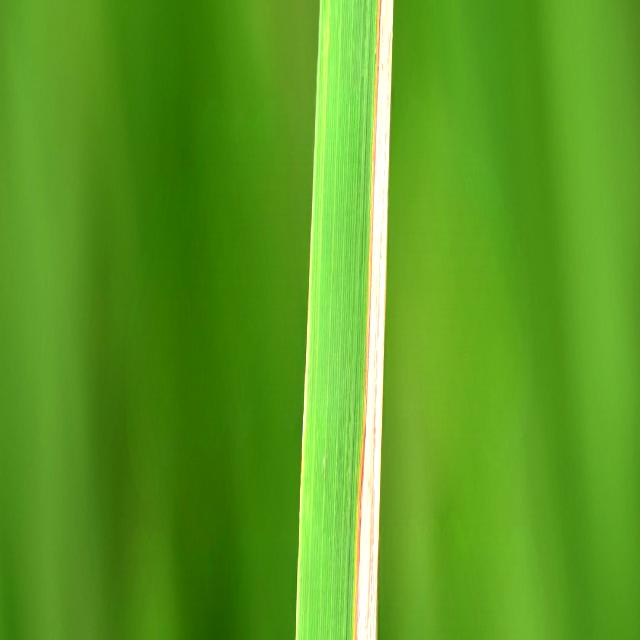BLB: (353, 0, 392, 640)
